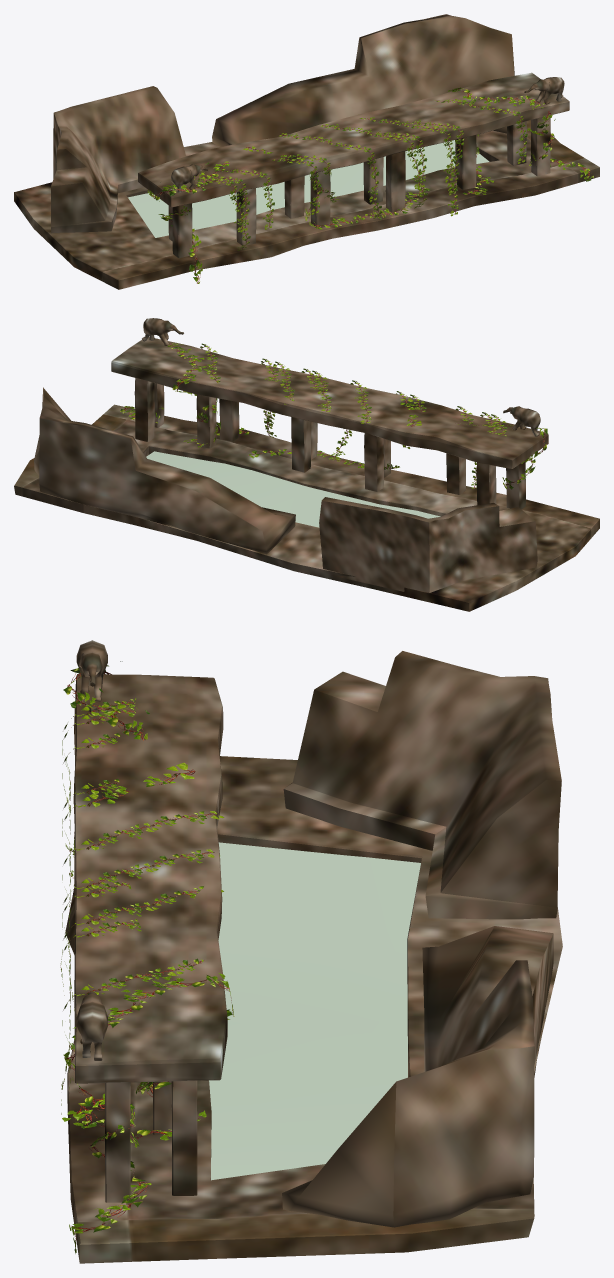
Rendered from temple 2.fbx.
The picture shows the model from 3 angles, top to bottom: view 1: azimuth 30°, elevation 25°; view 2: azimuth 150°, elevation 25°; view 3: azimuth 270°, elevation 25°; orthographic projection. The views are drawn at different scales.
Parts seen in each view (by area): view 1: temple_2, vine_4, vine_9, vine_55, vine_17, vine_15, vine_13, vine_11, vine_10, vine_18, vine_16, vine_12 (+2 smaller); view 2: temple_2, vine_4, vine_9, vine_15, vine_55, vine_17; view 3: temple_2, vine_4, vine_15, vine_55, vine_13, vine_9, vine_17, vine_11.
Boxes of the visible parts, x1=… form: temple_2: x1=14, y1=14, x2=599, y2=289; vine_4: x1=448, y1=87, x2=593, y2=194; vine_9: x1=243, y1=146, x2=430, y2=229; vine_55: x1=147, y1=161, x2=229, y2=283; vine_17: x1=359, y1=117, x2=458, y2=216; vine_15: x1=279, y1=133, x2=382, y2=218; vine_13: x1=320, y1=124, x2=422, y2=188; vine_11: x1=435, y1=99, x2=527, y2=163; vine_10: x1=375, y1=131, x2=427, y2=208; vine_18: x1=194, y1=174, x2=250, y2=250; vine_16: x1=409, y1=119, x2=464, y2=195; vine_12: x1=225, y1=169, x2=274, y2=229; temple_2: x1=14, y1=318, x2=599, y2=611; vine_4: x1=120, y1=343, x2=249, y2=447; vine_9: x1=248, y1=391, x2=421, y2=469; vine_15: x1=332, y1=380, x2=371, y2=459; vine_55: x1=455, y1=423, x2=547, y2=489; vine_17: x1=265, y1=361, x2=294, y2=437; temple_2: x1=65, y1=640, x2=562, y2=1263; vine_4: x1=62, y1=973, x2=234, y2=1253; vine_15: x1=62, y1=811, x2=224, y2=1010; vine_55: x1=63, y1=661, x2=149, y2=885; vine_13: x1=62, y1=849, x2=219, y2=1000; vine_9: x1=62, y1=762, x2=195, y2=1088; vine_17: x1=61, y1=886, x2=223, y2=1114; vine_11: x1=62, y1=958, x2=204, y2=1101.
Size of the model in its own units: 102 by 23.16 by 46.17.
